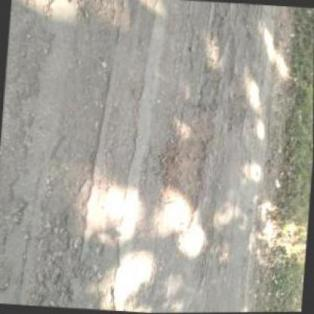Hueco: (155, 93, 216, 232)
